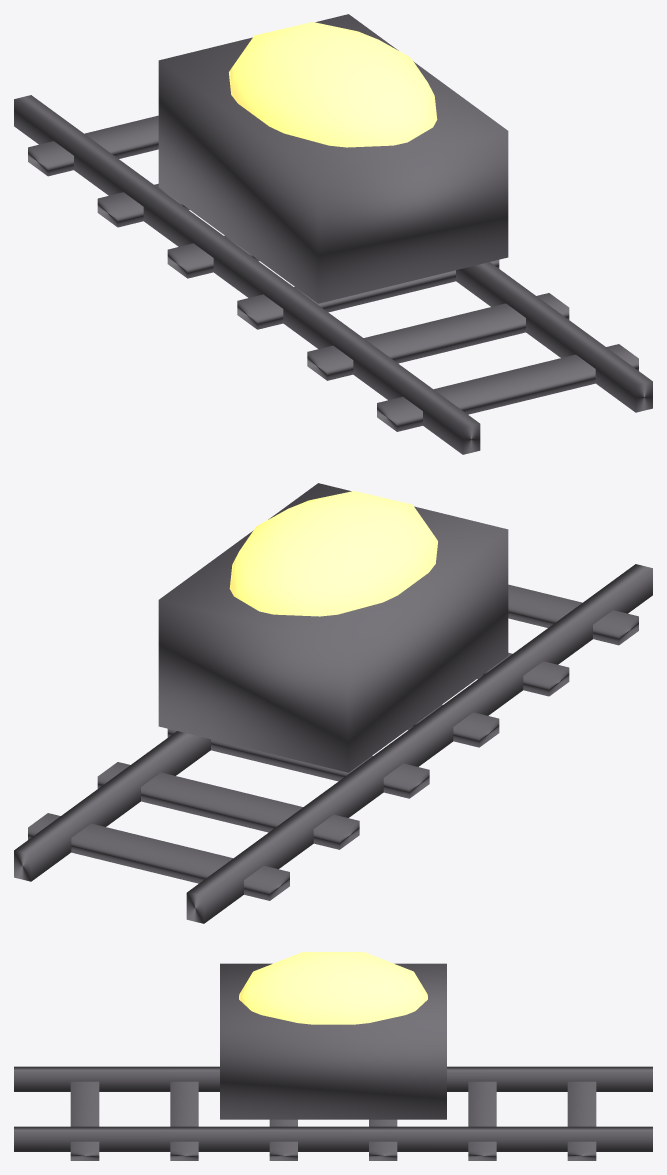
File: prop_mining_ore_cart_track.glb
The picture shows the model from 3 angles, top to bottom: view 1: azimuth 30°, elevation 25°; view 2: azimuth 150°, elevation 25°; view 3: azimuth 270°, elevation 25°; orthographic projection. The views are drawn at different scales.
Visible parts, largest first — view 1: Heavy_Ore_Cart_Body, Ore_Payload, Mine_Rail_L, Mine_Rail_R, Sleeper_2, Sleeper_1, Sleeper_6, Sleeper_3, Sleeper_5, Sleeper_4; view 2: Heavy_Ore_Cart_Body, Ore_Payload, Mine_Rail_L, Mine_Rail_R, Sleeper_5, Sleeper_6, Sleeper_1, Sleeper_4, Sleeper_2, Sleeper_3; view 3: Heavy_Ore_Cart_Body, Mine_Rail_R, Ore_Payload, Mine_Rail_L, Sleeper_1, Sleeper_6, Sleeper_2, Sleeper_5, Sleeper_3, Sleeper_4.
Part boxes in pixels (x1,y1,x2,y2): Heavy_Ore_Cart_Body: (158,14,508,303); Ore_Payload: (229,22,437,147); Mine_Rail_L: (14,95,480,454); Mine_Rail_R: (456,262,652,412); Sleeper_2: (307,293,569,380); Sleeper_1: (377,344,638,431); Sleeper_6: (28,115,158,176); Sleeper_3: (237,260,499,329); Sleeper_5: (97,183,189,227); Sleeper_4: (167,235,259,278); Heavy_Ore_Cart_Body: (158,483,508,772); Ore_Payload: (229,491,437,616); Mine_Rail_L: (186,564,652,923); Mine_Rail_R: (14,731,210,881); Sleeper_5: (97,762,359,849); Sleeper_6: (28,813,289,900); Sleeper_1: (508,584,638,645); Sleeper_4: (167,729,429,798); Sleeper_2: (477,652,569,696); Sleeper_3: (407,704,499,747); Heavy_Ore_Cart_Body: (220,963,446,1119); Mine_Rail_R: (14,1126,652,1151); Ore_Payload: (239,952,427,1024); Mine_Rail_L: (14,1066,652,1091); Sleeper_1: (70,1081,99,1160); Sleeper_6: (567,1081,596,1160); Sleeper_2: (170,1081,198,1160); Sleeper_5: (468,1081,496,1160); Sleeper_3: (269,1119,297,1160); Sleeper_4: (369,1119,397,1160).
Bounding box in the file's own units: 2.8 × 2.5 × 9.
